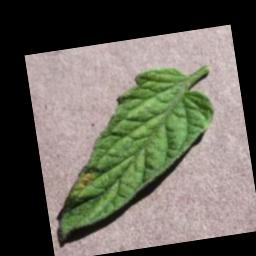Leaf_Mold: (70, 168, 99, 194)
